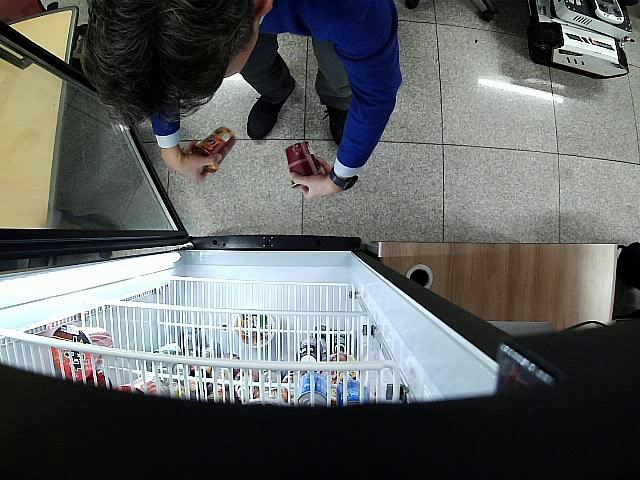00_hand: (288, 155, 337, 201), (161, 153, 219, 182)
06_nuguri_S: (192, 127, 235, 173), (285, 141, 326, 188)
